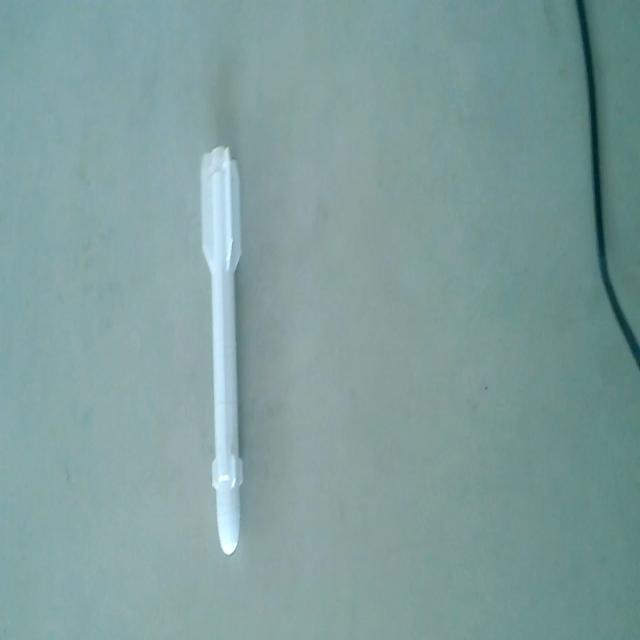Rocket: (198, 136, 252, 559)
